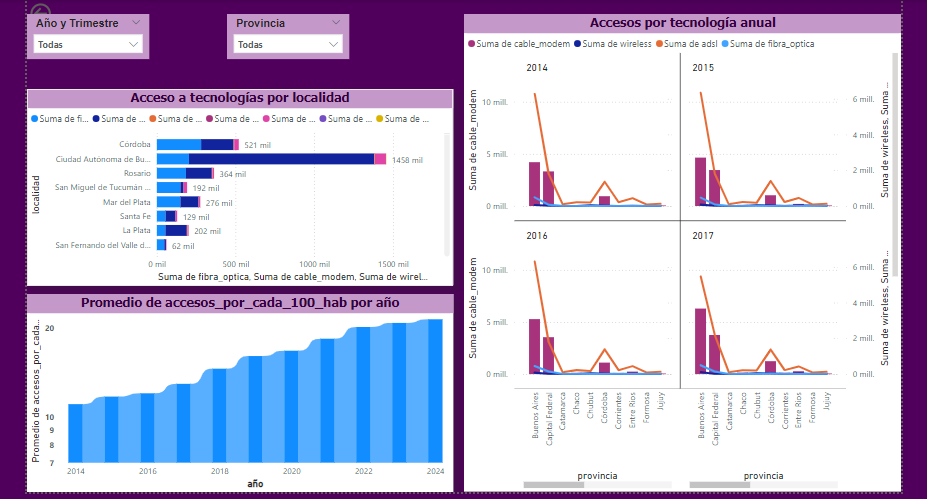

The dashboard page shown, as its layout file describes it:
{"tool":"powerbi","page":{"name":"Población","canvas":[1280,720],"ordinal":1},"visuals":[{"type":"actionButton","box":[0,0,100,40],"z":0},{"type":"barChart","title":"Acceso a tecnologías por localidad","fields":{"Category":["accesos_tecnologia_localidad.localidad"],"Y":["Sum(accesos_tecnologia_localidad.fibra_optica)","Sum(accesos_tecnologia_localidad.cable_modem)","Sum(accesos_tecnologia_localidad.wireless)","Sum(accesos_tecnologia_localidad.satelital)","Sum(accesos_tecnologia_localidad.adsl)","Sum(accesos_tecnologia_localidad.wimax)","Sum(accesos_tecnologia_localidad.dial_up)"]},"box":[0,130.8,623.6,287.4],"z":1000},{"type":"ribbonChart","fields":{"Category":["penetracion_poblacion.año"],"Y":["Avg(penetracion_poblacion.accesos_por_cada_100_hab)"]},"box":[0,430.4,623.6,289.8],"z":2000},{"type":"lineClusteredColumnComboChart","title":"Accesos por tecnología anual","fields":{"Category":["accesos_por_tecnologia.provincia"],"Y":["Sum(accesos_por_tecnologia.cable_modem)"],"Y2":["Sum(accesos_por_tecnologia.wireless)","Sum(accesos_por_tecnologia.adsl)","Sum(accesos_por_tecnologia.fibra_optica)"],"Rows":["accesos_por_tecnologia.año"]},"box":[639.5,20.8,640.8,699.5],"z":3000},{"type":"slicer","fields":{"Values":["penetracion_poblacion.año","penetracion_poblacion.trimestre"]},"box":[0,20.8,178.5,66],"z":4000},{"type":"slicer","fields":{"Values":["penetracion_poblacion.provincia"]},"box":[292.3,20.8,178.5,66],"z":5000}]}

Visuals, with their boxes in screenshot pixels (x1, y1, x2, y2):
actionButton: bbox=(24, 0, 93, 25)
"Acceso a tecnologías por localidad" barChart: bbox=(24, 87, 451, 284)
ribbonChart - penetracion_poblacion.año x Avg(penetracion_poblacion.accesos_por_cada_100_hab): bbox=(24, 292, 451, 491)
"Accesos por tecnología anual" lineClusteredColumnComboChart: bbox=(462, 12, 900, 491)
slicer - penetracion_poblacion.año x penetracion_poblacion.trimestre: bbox=(24, 12, 146, 57)
slicer - penetracion_poblacion.provincia: bbox=(224, 12, 346, 57)
